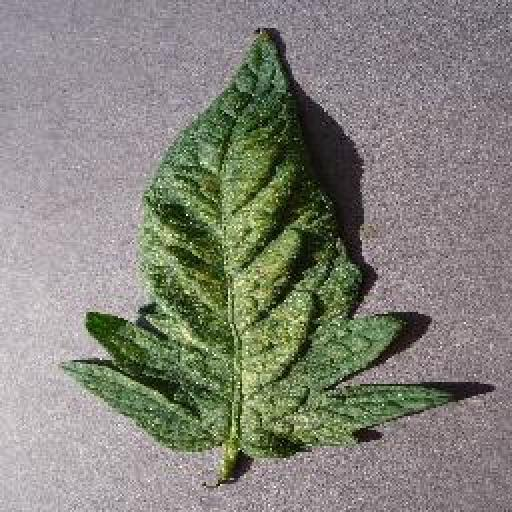disease_tomato: (56, 26, 459, 458)
